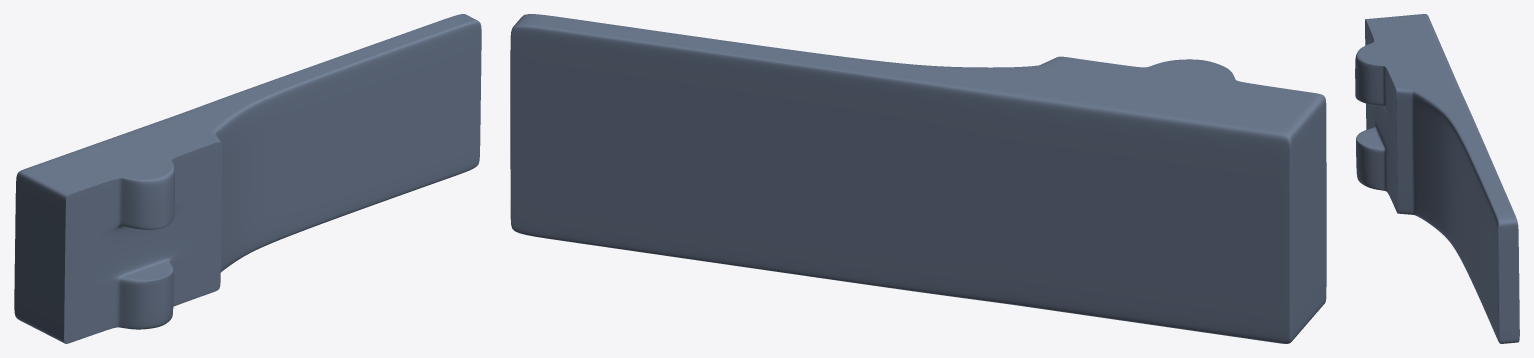
3 views of the same model, side by side, from view 1: azimuth 30°, elevation 25°; view 2: azimuth 150°, elevation 25°; view 3: azimuth 270°, elevation 25° (orthographic). The views are drawn at different scales.
Parts seen in each view (by area): view 1: Cube.029; view 2: Cube.029; view 3: Cube.029.
Boxes of the visible parts, x1,y1,x2,y2 form: Cube.029: (14, 14, 481, 343); Cube.029: (510, 14, 1326, 343); Cube.029: (1355, 14, 1519, 343).
Bounding box in the file's own units: 0.0414 × 0.0119 × 0.0139.
